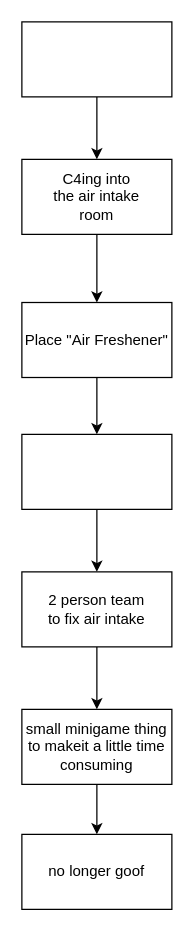
Image size: 194x931. Some labels were removed from this diagram. The shapes that lost their labels are listed below. From the top down, each one's box as (x1, y1, x2, y2) in pixels, then its label:
(21, 21, 172, 97): Hacking Surface Entrance Door
(21, 433, 172, 509): Event Trigger
